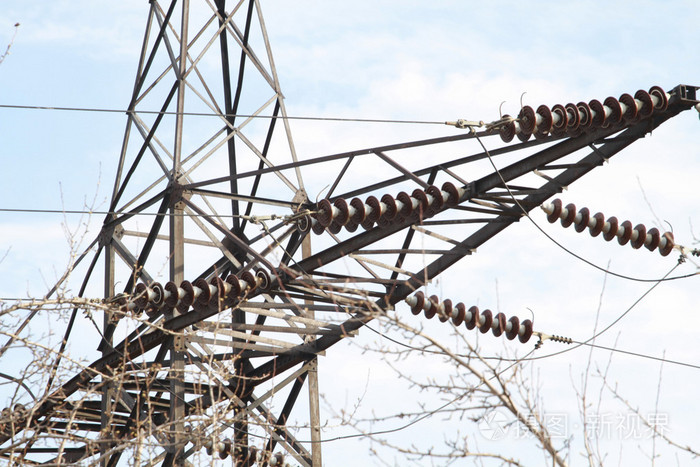insulator: (498, 86, 668, 145), (299, 181, 465, 232), (547, 196, 675, 261), (411, 289, 535, 345), (138, 268, 267, 307), (204, 437, 293, 466)
